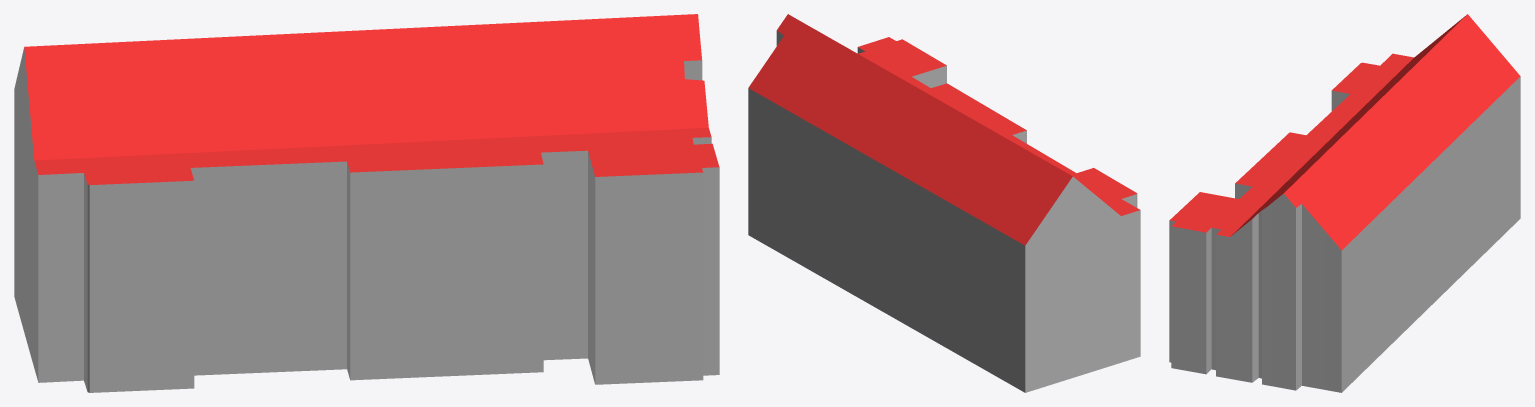
Rendered from DEBY_LOD2_4959313.dae.
3 views of the same model, side by side, from view 1: azimuth 30°, elevation 25°; view 2: azimuth 150°, elevation 25°; view 3: azimuth 270°, elevation 25° (orthographic). The views are drawn at different scales.
Size of the model in its own units: 36.71 by 27.57 by 16.89.
